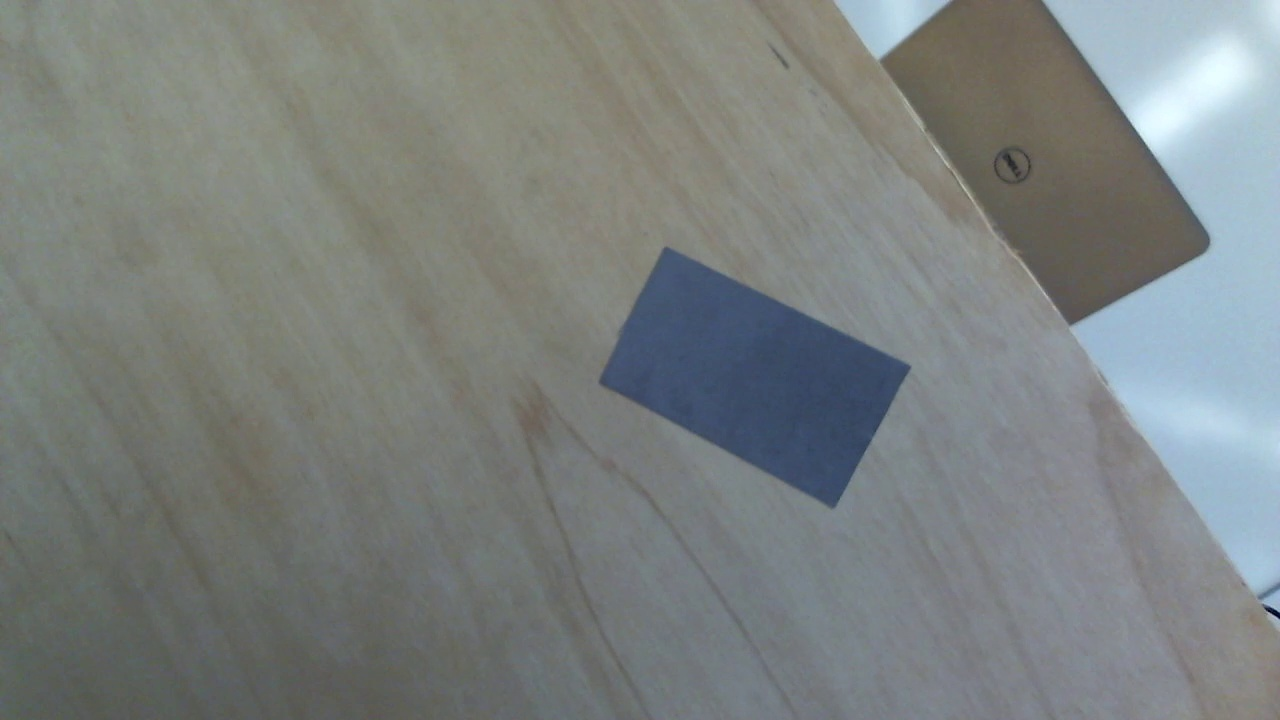Tape: (597, 248, 911, 513)
